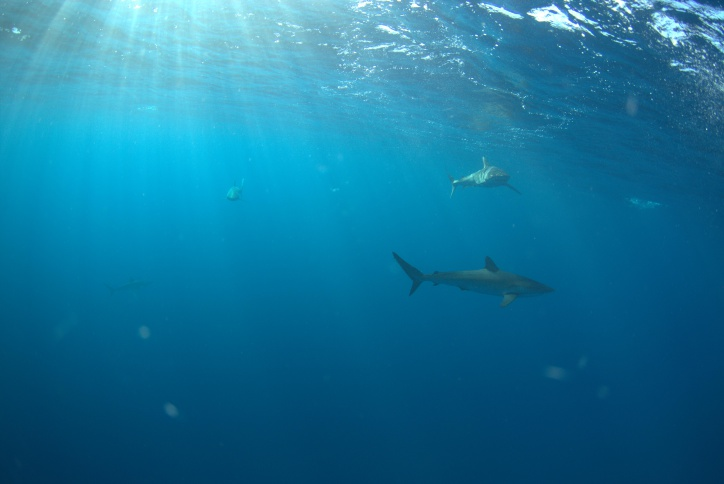Sedoso: (432, 151, 530, 206)
